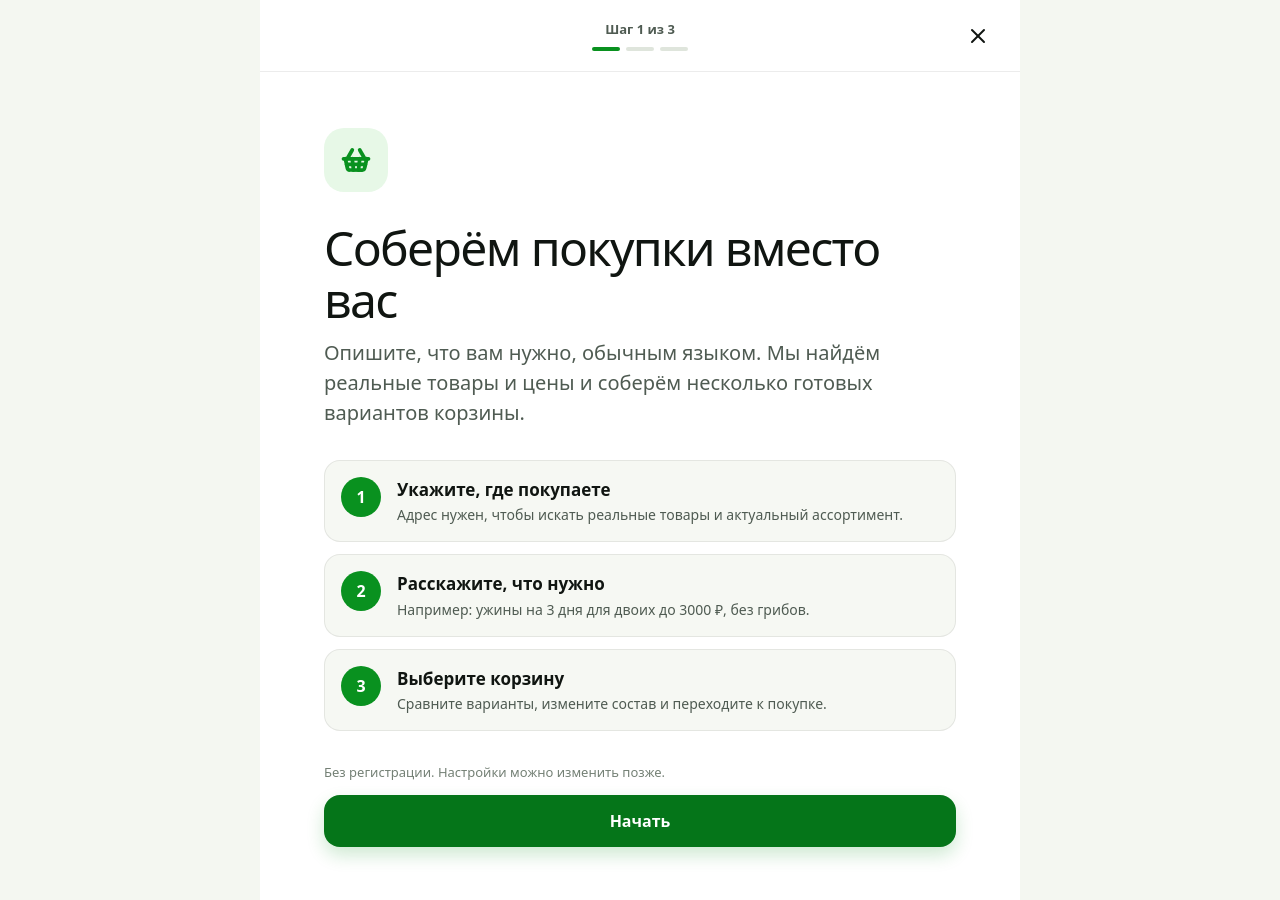
Test: App first-run onboarding › keeps a button that opens onboarding again after it was dismissed
Click the button named "Пропустить настройку" at (978, 36), box x1=956 y1=14 x2=1000 y2=58
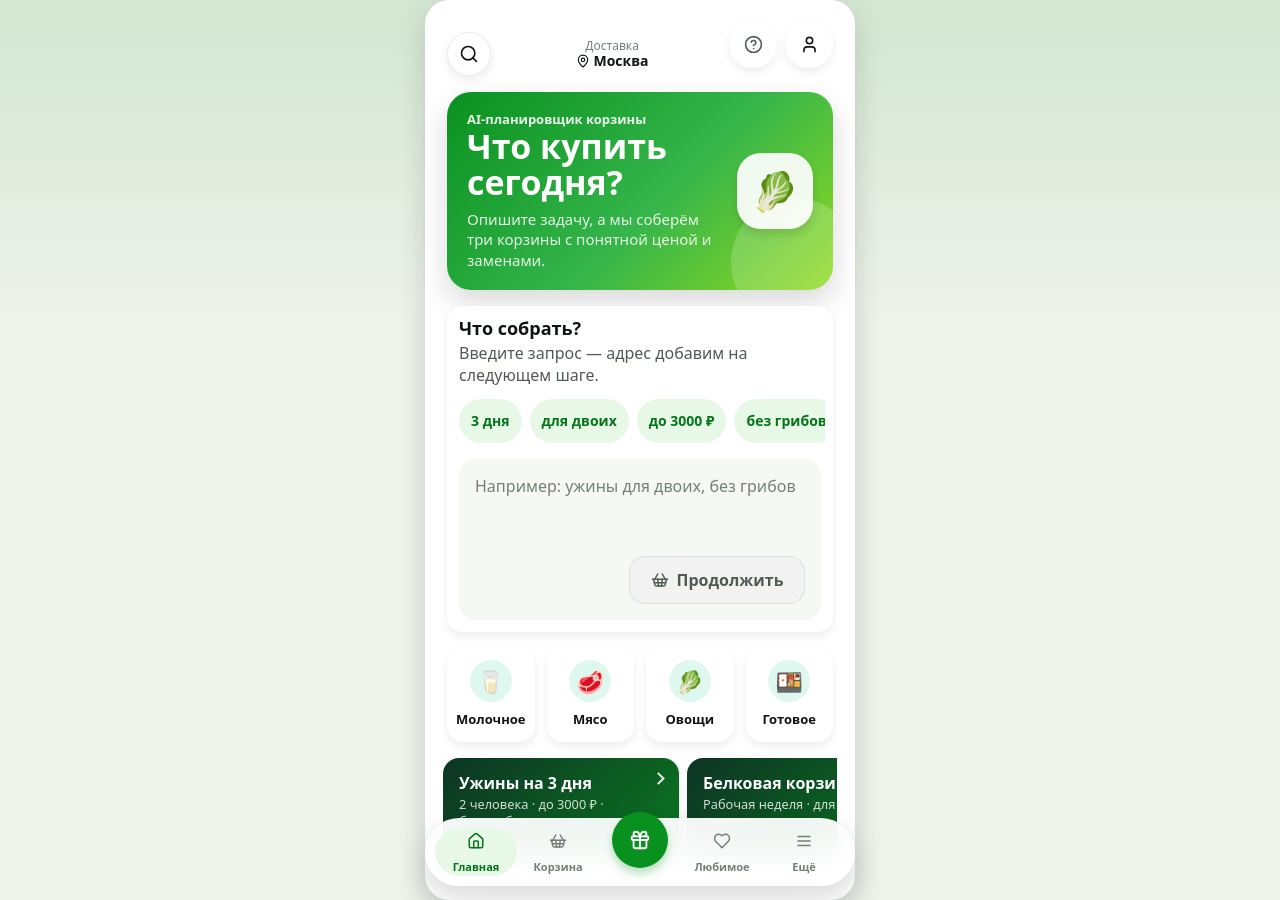
Click the button named "Показать онбординг" at (753, 44), box x1=729 y1=20 x2=777 y2=68
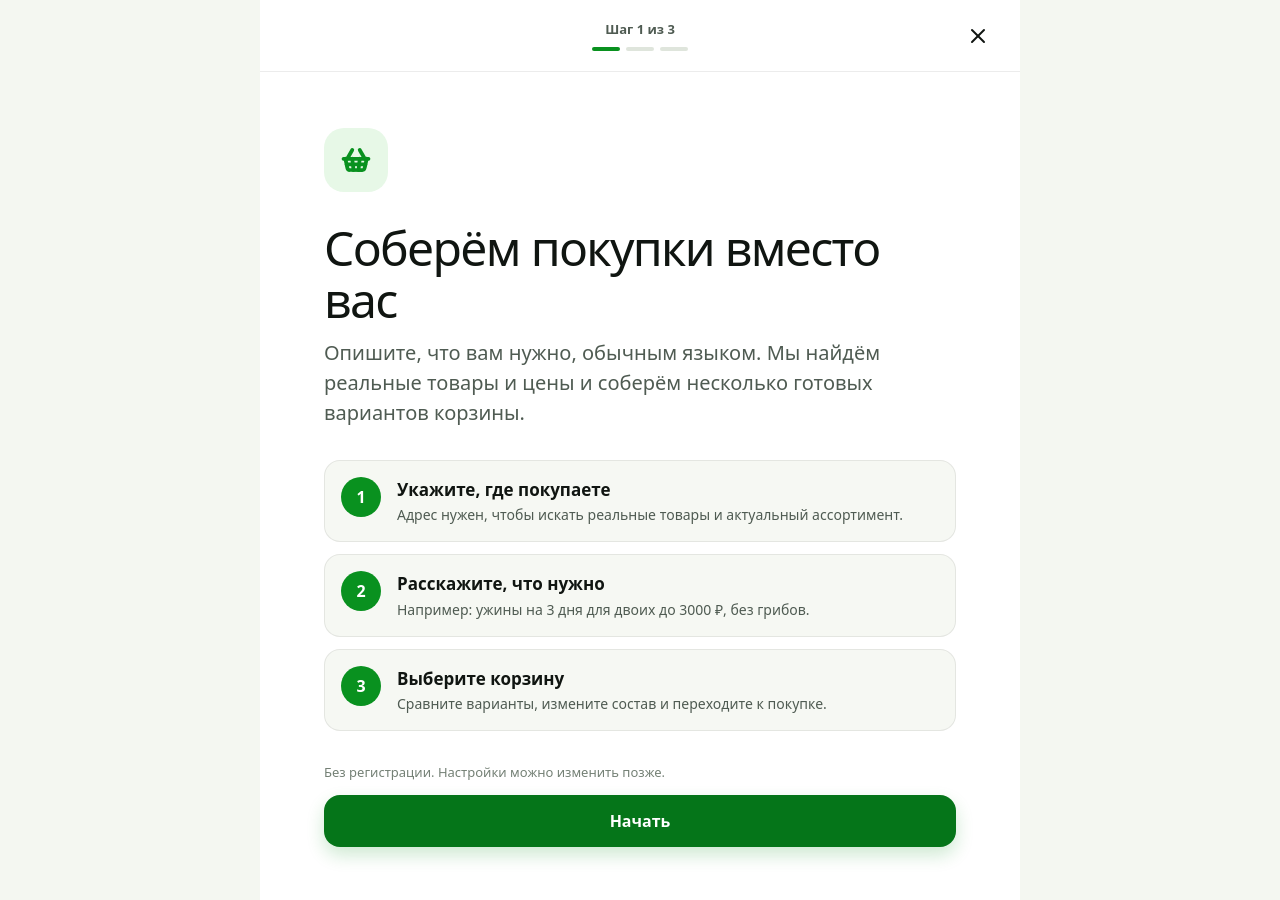
Result: the heading "Соберём покупки вместо вас" is shown at x1=324 y1=222 x2=944 y2=326
